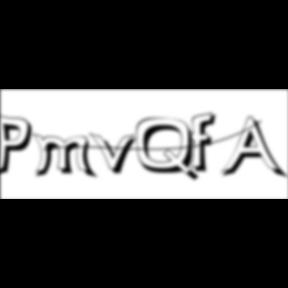A: (220, 116, 288, 182)
P: (0, 110, 38, 180)
Q: (136, 117, 202, 184)
f: (190, 111, 222, 175)
m: (32, 132, 100, 181)
v: (89, 131, 143, 177)
